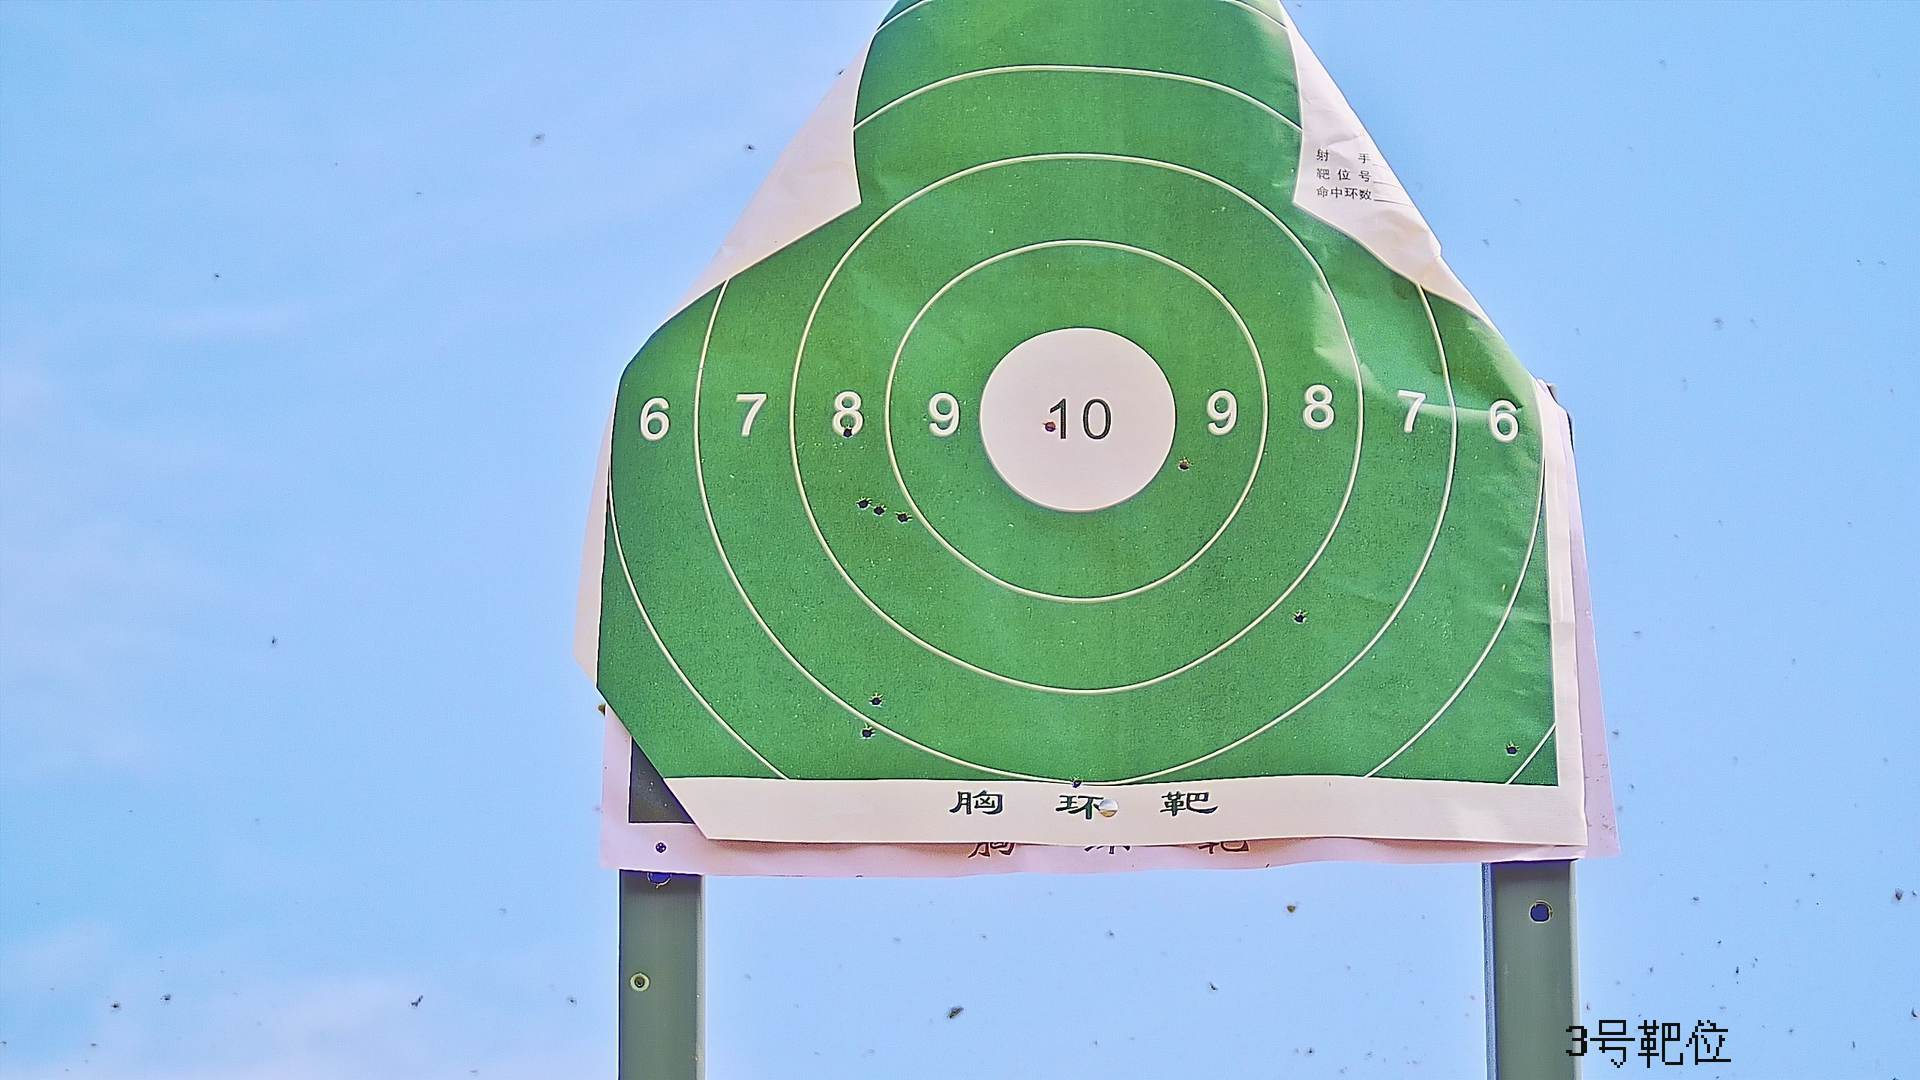hole: (861, 727, 876, 740), (1503, 742, 1518, 756), (1043, 419, 1056, 433), (869, 694, 884, 705), (1179, 456, 1189, 472), (895, 512, 909, 524), (1294, 611, 1305, 624), (857, 497, 870, 508), (1072, 777, 1083, 789), (874, 505, 885, 516), (843, 429, 855, 436)
kernel: (597, 1, 1565, 794), (1069, 422, 1080, 426)
ten: (975, 327, 1179, 516)
